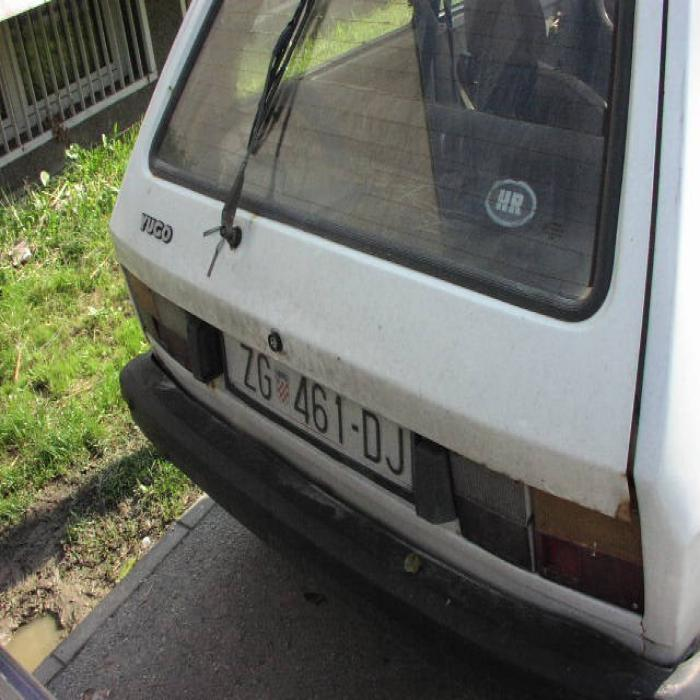number_plate: (222, 332, 411, 493)
